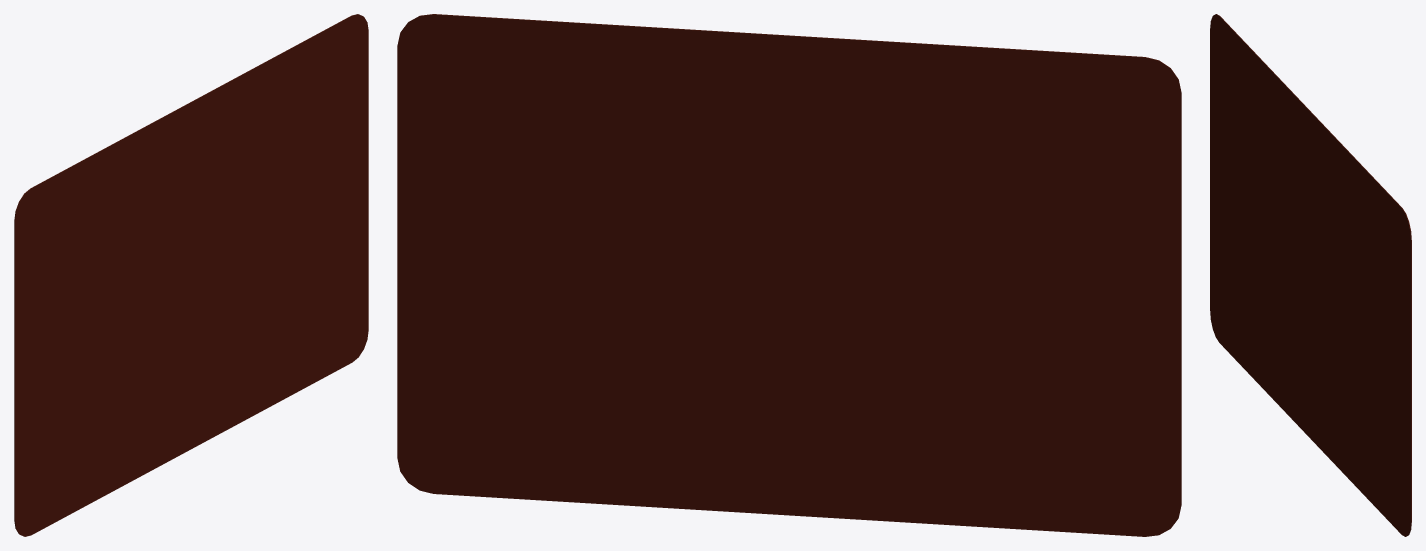
File: Card.fbx
The picture shows the model from 3 angles, left to right: view 1: azimuth 30°, elevation 25°; view 2: azimuth 150°, elevation 25°; view 3: azimuth 270°, elevation 25°; orthographic projection. The views are drawn at different scales.
Visible parts, largest first — view 1: Card; view 2: Card; view 3: Card.
Boxes of the visible parts, left/top/right/bottom form: Card: left=14, top=14, right=368, bottom=536; Card: left=397, top=14, right=1181, bottom=536; Card: left=1210, top=14, right=1411, bottom=536.
Size of the model in its own units: 16373 by 11779 by 6593.
2 materials, 2 textured.
